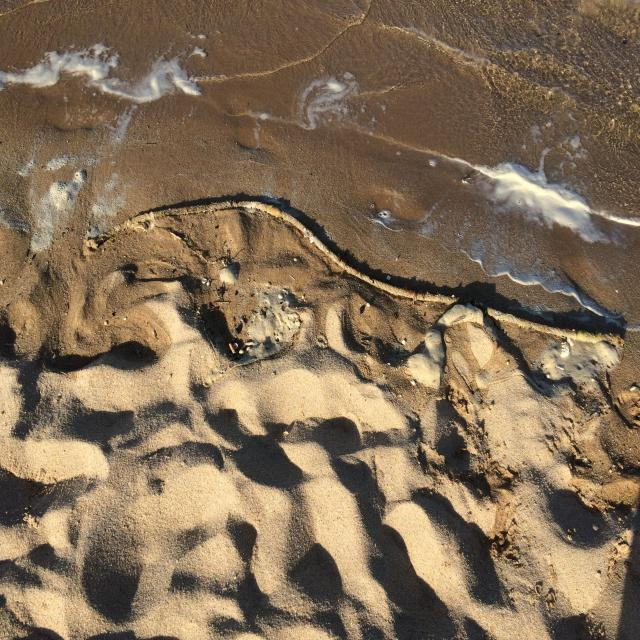litter: (90, 197, 626, 349)
